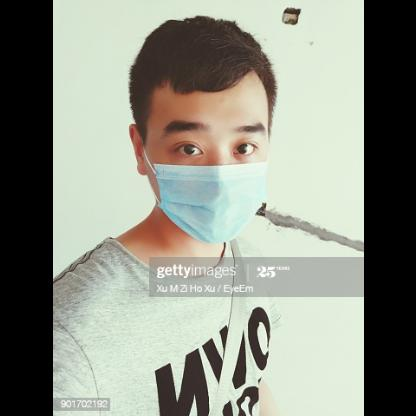Surgical Mask: (130, 70, 282, 244)
